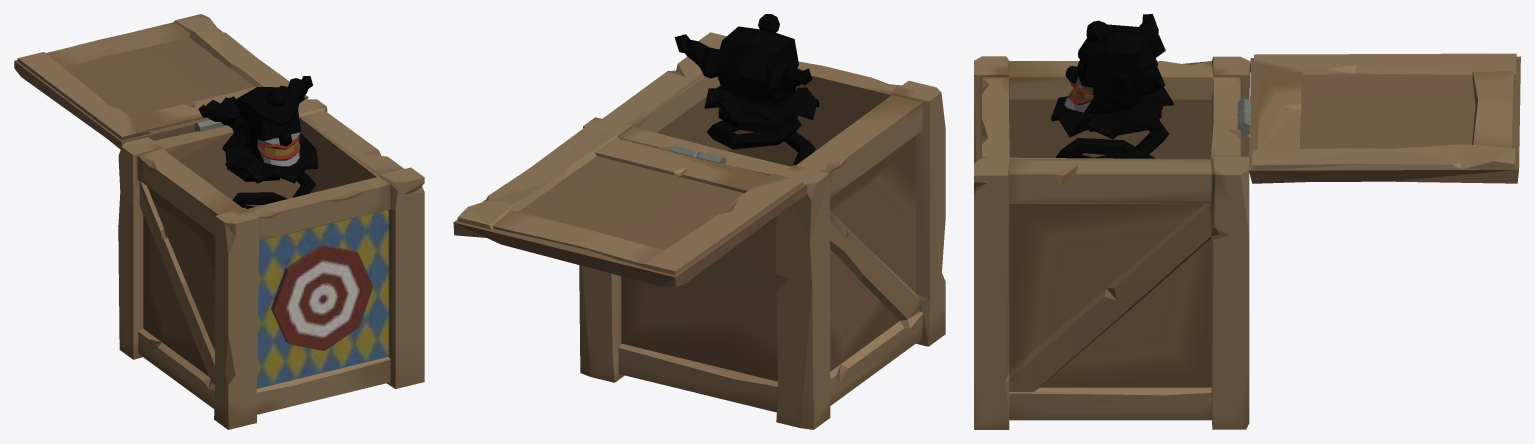
File: SM_Prop_Clown_Box_01.glb
The picture shows the model from 3 angles, left to right: view 1: azimuth 30°, elevation 25°; view 2: azimuth 150°, elevation 25°; view 3: azimuth 270°, elevation 25°; orthographic projection. The views are drawn at different scales.
Visible parts, largest first — view 1: SM_Prop_Clown_Box_01, SM_Prop_Clown_Box_01_Spring_01; view 2: SM_Prop_Clown_Box_01, SM_Prop_Clown_Box_01_Spring_01; view 3: SM_Prop_Clown_Box_01, SM_Prop_Clown_Box_01_Spring_01.
Boxes of the visible parts, x1=… form: SM_Prop_Clown_Box_01: x1=14, y1=14, x2=424, y2=429; SM_Prop_Clown_Box_01_Spring_01: x1=198, y1=76, x2=318, y2=208; SM_Prop_Clown_Box_01: x1=453, y1=32, x2=945, y2=429; SM_Prop_Clown_Box_01_Spring_01: x1=674, y1=14, x2=819, y2=165; SM_Prop_Clown_Box_01: x1=974, y1=53, x2=1520, y2=429; SM_Prop_Clown_Box_01_Spring_01: x1=1051, y1=14, x2=1173, y2=158.
Bounding box in the file's own units: 110 × 149 × 213.
Materials: 1 (1 with a texture image).
